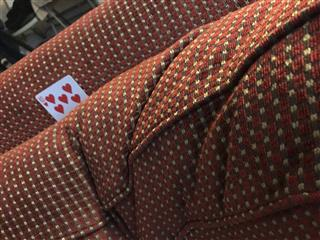TenOfHearts: (34, 73, 88, 121)
